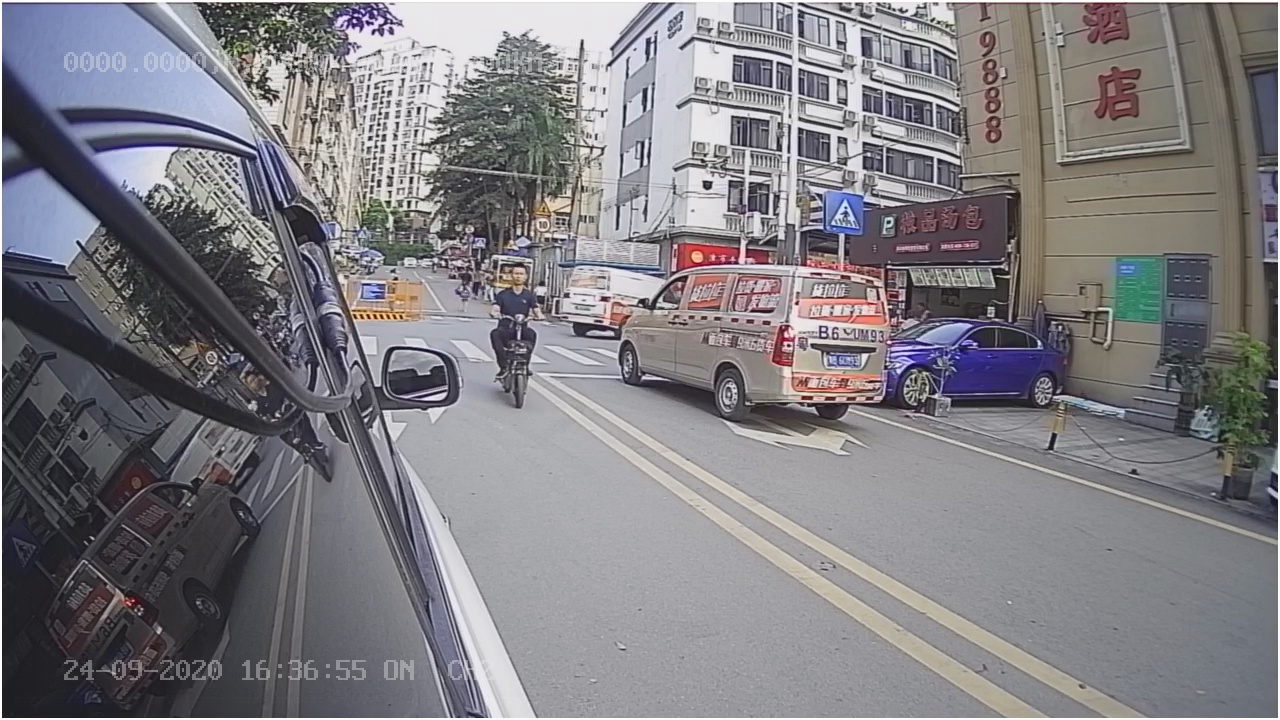person: (468, 257, 561, 415)
